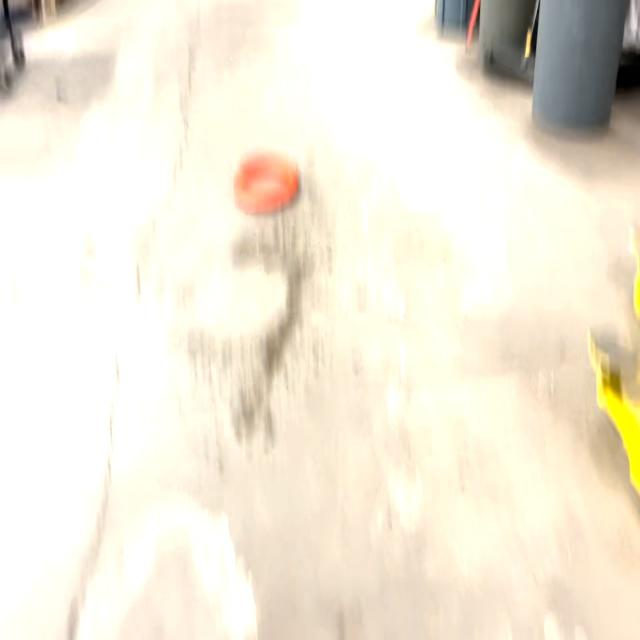note: (231, 148, 299, 215)
